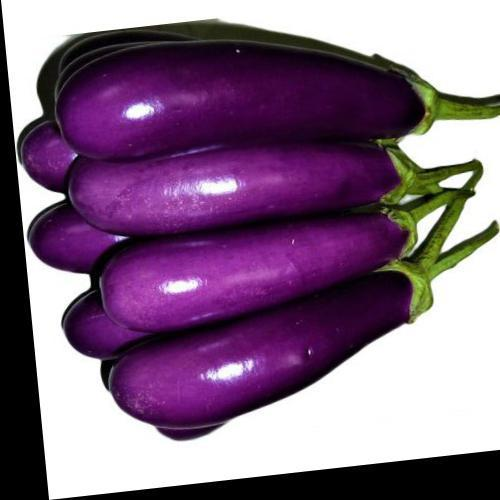eggplant: (52, 15, 499, 429)
